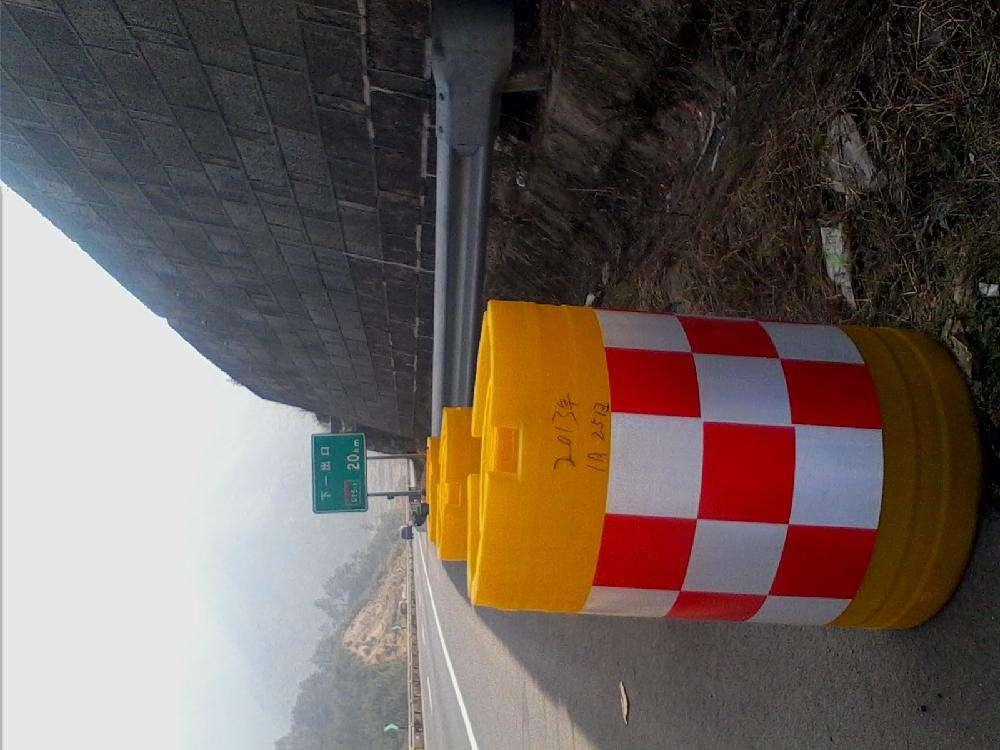sign: (446, 300, 996, 634)
